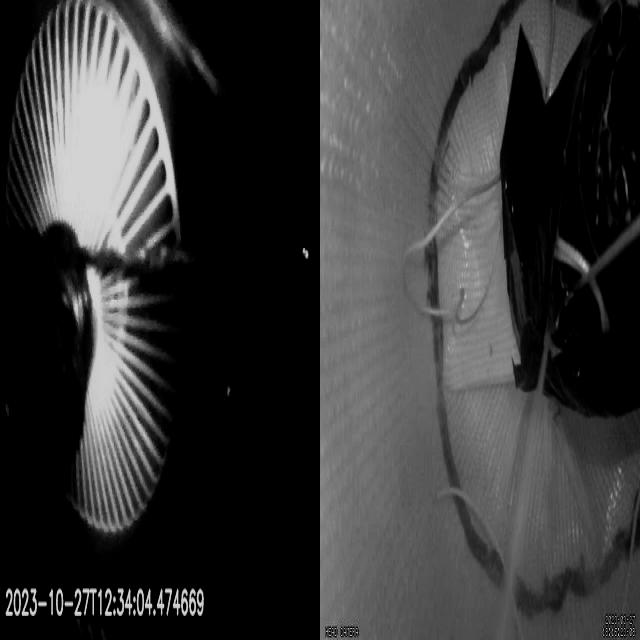red-circle: (425, 0, 640, 618)
